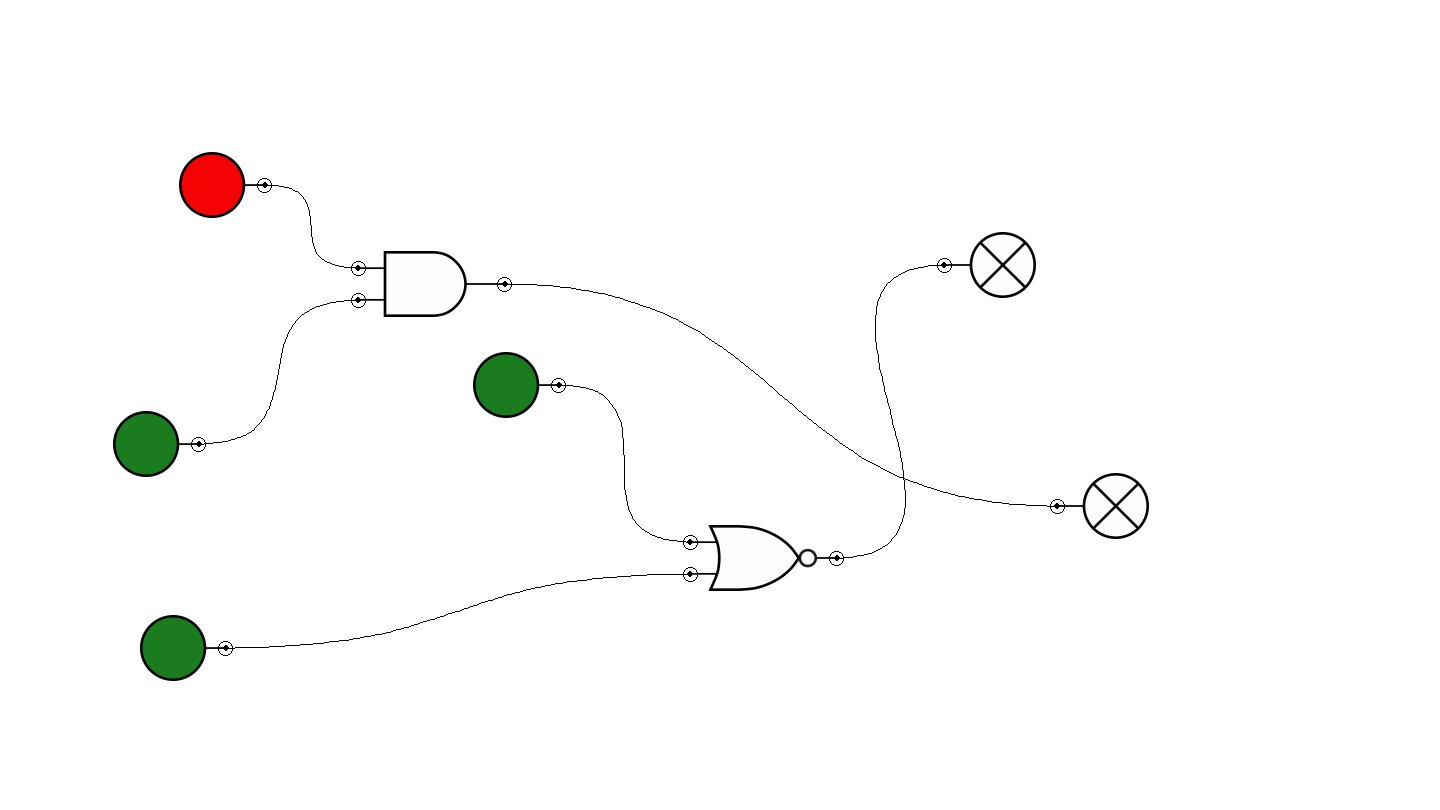and: (351, 251, 512, 317)
bulb: (1050, 473, 1149, 539), (937, 232, 1036, 298)
nor: (683, 525, 844, 591)
switch_False: (179, 152, 272, 218)
switch_True: (113, 411, 206, 477), (140, 615, 233, 681), (473, 352, 566, 418)
